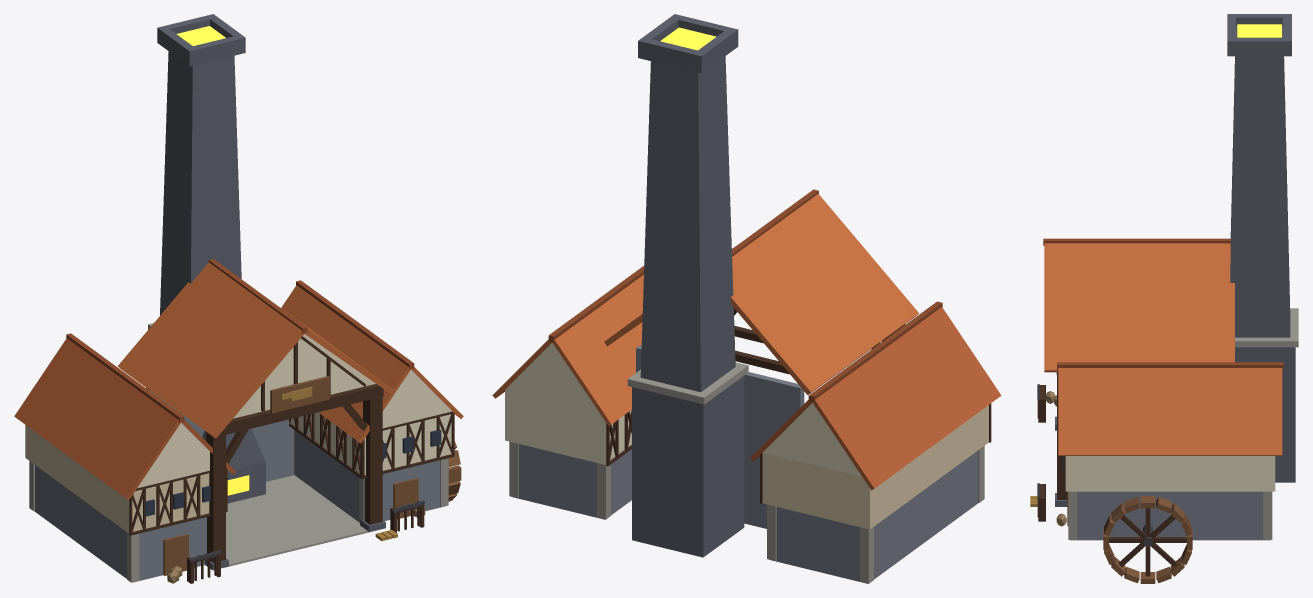
The model's file is LOBBY_VM_04_FORGE_2856ea.fbx.
The picture shows the model from 3 angles, left to right: view 1: azimuth 30°, elevation 25°; view 2: azimuth 150°, elevation 25°; view 3: azimuth 270°, elevation 25°; orthographic projection. The views are drawn at different scales.
Parts seen in each view (by area): view 1: VM_Frg_Chimney__Stone_VM_Dark, VM_Frg_Hall__Roof_VM_Terracotta, VM_Frg_WingW__Roof_VM_Terracotta_B, VM_Frg_Hall__Wood_VM_Timber, VM_Frg_Hall__Stone_VM_Trim, VM_Frg_WingW__Stone_VM_Base, VM_Frg_WingW__Plaster_VM_Ochre, VM_Frg_WingE__Roof_VM_Terracotta, VM_Frg_WingE__Plaster_VM_Cream, VM_Frg_WingE__Stone_VM_Base, VM_Frg_WingE__Wood_VM_Timber, VM_Frg_Hall__Plaster_VM_Cream (+15 smaller); view 2: VM_Frg_Chimney__Stone_VM_Dark, VM_Frg_Hall__Roof_VM_Terracotta, VM_Frg_WingW__Roof_VM_Terracotta_B, VM_Frg_WingW__Stone_VM_Base, VM_Frg_WingW__Plaster_VM_Ochre, VM_Frg_WingE__Plaster_VM_Cream, VM_Frg_WingE__Roof_VM_Terracotta, VM_Frg_WingE__Stone_VM_Base, VM_Frg_Hall__Stone_VM_Base, VM_Frg_WingW__Plaster_VM_Cream, VM_Frg_WingW__Stone_VM_Trim, VM_Frg_Chimney__Stone_VM_Trim (+7 smaller); view 3: VM_Frg_Hall__Roof_VM_Terracotta, VM_Frg_Chimney__Stone_VM_Dark, VM_Frg_WingE__Roof_VM_Terracotta, VM_Frg_WingE__Plaster_VM_Cream, VM_Frg_WingE__Stone_VM_Base, VM_Frg_Wheel__Wood_VM_Plank, VM_Frg_Wheel__Wood_VM_Timber, VM_Frg_WingE__Roof_VM_Ridge, VM_Frg_Hall__Roof_VM_Ridge, VM_Frg_WingE__Stone_VM_Trim, VM_Frg_Chimney__Stone_VM_Trim, VM_Frg_Chimney__Forge_Glow_VM (+2 smaller).
Part boxes in pixels (x1,y1,x2,y2): VM_Frg_Chimney__Stone_VM_Dark: (157,14,245,315); VM_Frg_Hall__Roof_VM_Terracotta: (118,262,395,438); VM_Frg_WingW__Roof_VM_Terracotta_B: (14,338,235,499); VM_Frg_Hall__Wood_VM_Timber: (205,336,383,562); VM_Frg_Hall__Stone_VM_Trim: (225,475,368,567); VM_Frg_WingW__Stone_VM_Base: (34,465,206,582); VM_Frg_WingW__Plaster_VM_Ochre: (25,425,209,533); VM_Frg_WingE__Roof_VM_Terracotta: (281,285,463,443); VM_Frg_WingE__Plaster_VM_Cream: (290,370,452,474); VM_Frg_WingE__Stone_VM_Base: (294,430,444,521); VM_Frg_WingE__Wood_VM_Timber: (289,411,454,478); VM_Frg_Hall__Plaster_VM_Cream: (233,334,375,418); VM_Frg_Chimney__Stone_VM_Dark: (632,14,744,557); VM_Frg_Hall__Roof_VM_Terracotta: (604,194,918,394); VM_Frg_WingW__Roof_VM_Terracotta_B: (750,307,1001,490); VM_Frg_WingW__Stone_VM_Base: (770,451,978,583); VM_Frg_WingW__Plaster_VM_Ochre: (762,405,988,529); VM_Frg_WingE__Plaster_VM_Cream: (505,342,631,464); VM_Frg_WingE__Roof_VM_Terracotta: (492,275,643,426); VM_Frg_WingE__Stone_VM_Base: (512,444,631,519); VM_Frg_Hall__Stone_VM_Base: (636,345,804,528); VM_Frg_WingW__Plaster_VM_Cream: (763,403,861,476); VM_Frg_WingW__Stone_VM_Trim: (767,446,984,583); VM_Frg_Chimney__Stone_VM_Trim: (627,362,748,404); VM_Frg_Hall__Roof_VM_Terracotta: (1044,243,1234,372); VM_Frg_Chimney__Stone_VM_Dark: (1227,14,1295,482); VM_Frg_WingE__Roof_VM_Terracotta: (1058,368,1282,455); VM_Frg_WingE__Plaster_VM_Cream: (1065,456,1275,491); VM_Frg_WingE__Stone_VM_Base: (1070,491,1270,540); VM_Frg_Wheel__Wood_VM_Plank: (1103,496,1192,583); VM_Frg_Wheel__Wood_VM_Timber: (1109,508,1186,576); VM_Frg_WingE__Roof_VM_Ridge: (1057,362,1283,369); VM_Frg_Hall__Roof_VM_Ridge: (1043,238,1230,245); VM_Frg_WingE__Stone_VM_Trim: (1068,491,1272,539); VM_Frg_Chimney__Stone_VM_Trim: (1235,308,1298,347); VM_Frg_Chimney__Forge_Glow_VM: (1237,24,1281,37).
Size of the model in its own units: 73.87 by 92.6 by 48.1.
